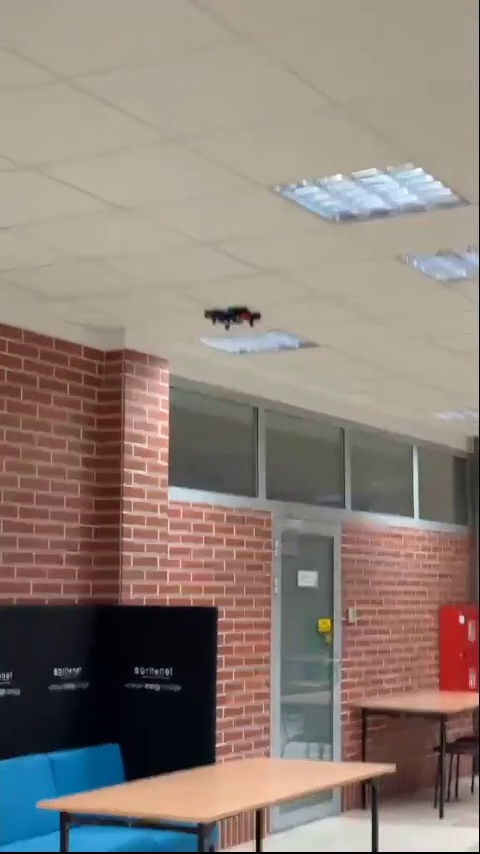drone: (206, 304, 261, 327)
